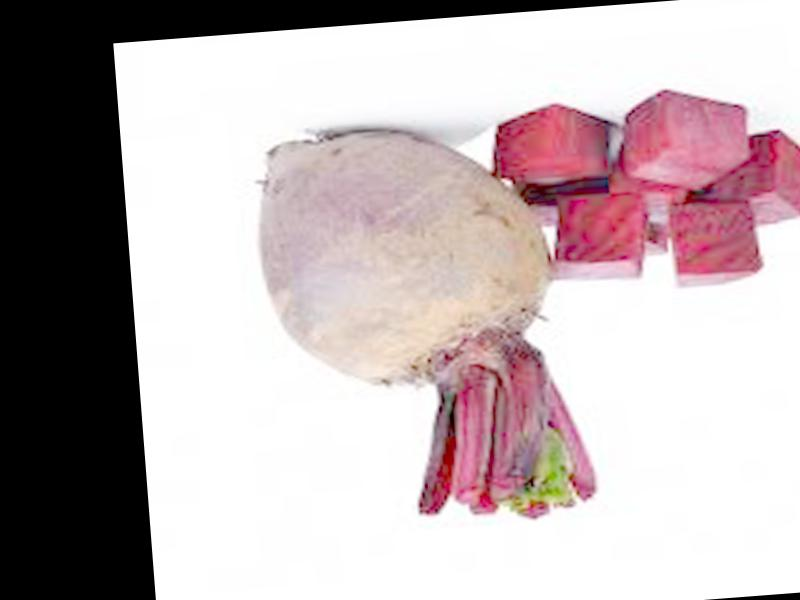Beet: (252, 113, 597, 534)
